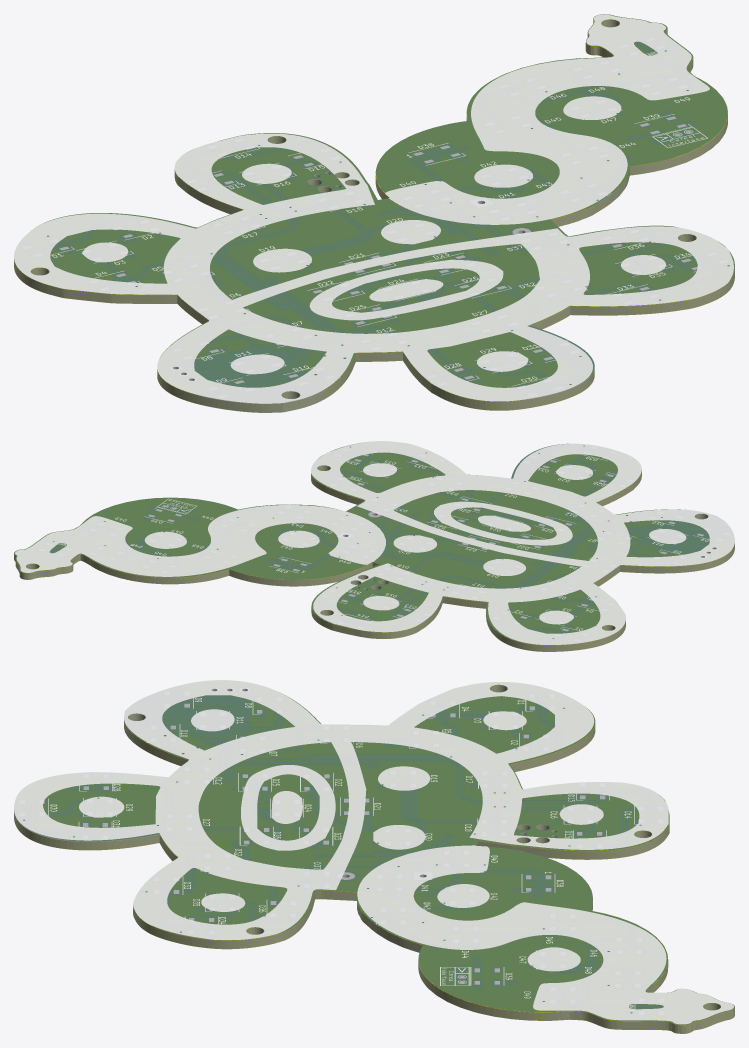
File: bsidespr-taino-sun-badge.glb
3 views of the same model, one above another, from view 1: azimuth 30°, elevation 25°; view 2: azimuth 150°, elevation 25°; view 3: azimuth 270°, elevation 25° (orthographic). The views are drawn at different scales.
Parts seen in each view (by area): view 1: =>[0:1:1:5], =>[0:1:1:7], =>[0:1:1:2], =>[0:1:1:9]; view 2: =>[0:1:1:5], =>[0:1:1:7], =>[0:1:1:2], =>[0:1:1:9]; view 3: =>[0:1:1:5], =>[0:1:1:7], =>[0:1:1:2], =>[0:1:1:9].
Boxes of the visible parts, x1=… form: =>[0:1:1:5]: x1=14, y1=14, x2=733, y2=403; =>[0:1:1:7]: x1=17, y1=14, x2=734, y2=412; =>[0:1:1:2]: x1=16, y1=19, x2=734, y2=410; =>[0:1:1:9]: x1=14, y1=20, x2=734, y2=412; =>[0:1:1:5]: x1=15, y1=441, x2=734, y2=644; =>[0:1:1:7]: x1=14, y1=442, x2=733, y2=651; =>[0:1:1:2]: x1=14, y1=453, x2=731, y2=651; =>[0:1:1:9]: x1=14, y1=454, x2=734, y2=651; =>[0:1:1:5]: x1=14, y1=680, x2=733, y2=1024; =>[0:1:1:7]: x1=14, y1=684, x2=734, y2=1033; =>[0:1:1:2]: x1=16, y1=685, x2=734, y2=1033; =>[0:1:1:9]: x1=14, y1=685, x2=734, y2=1033.
Bounding box in the file's own units: 0.1358 × 0.00166 × 0.1199.
4 materials, 4 textured.
